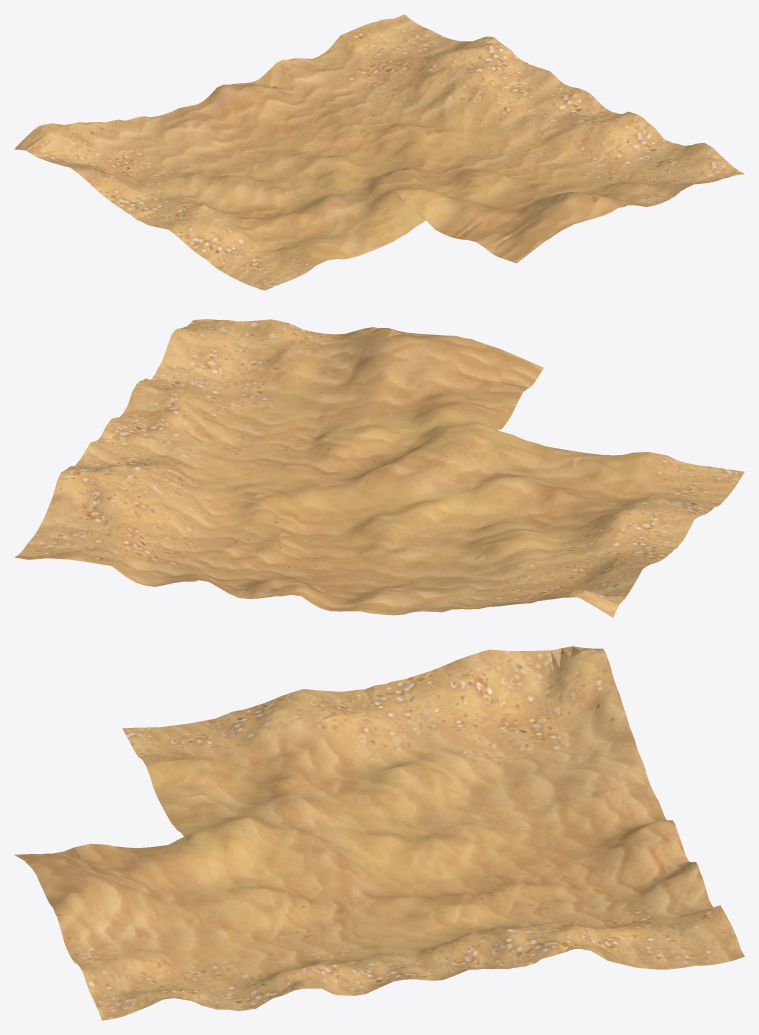
Rendered from desert mesh.FBX.
3 views of the same model, one above another, from view 1: azimuth 30°, elevation 25°; view 2: azimuth 150°, elevation 25°; view 3: azimuth 270°, elevation 25° (orthographic). The views are drawn at different scales.
Visible parts, largest first — view 1: Snow_Terrain; view 2: Snow_Terrain; view 3: Snow_Terrain.
Boxes of the visible parts, <box> form: Snow_Terrain: <box>14,14,744,290</box>; Snow_Terrain: <box>14,319,744,617</box>; Snow_Terrain: <box>14,646,744,1020</box>.
Size of the model in its own units: 3977 by 357 by 3550.
Materials: 1 (1 with a texture image).
